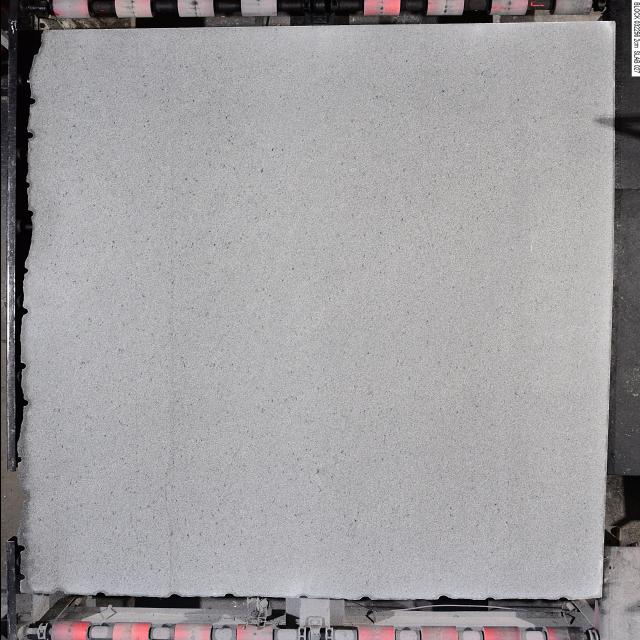chapa: (18, 21, 612, 599)
veio: (12, 542, 27, 554), (24, 96, 37, 108), (15, 360, 28, 372), (22, 130, 36, 140), (17, 308, 28, 316)
